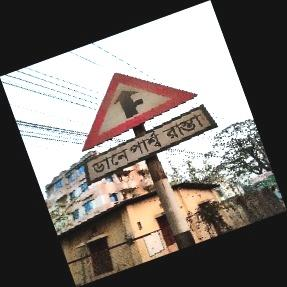Side-road-right: (78, 72, 214, 187)
